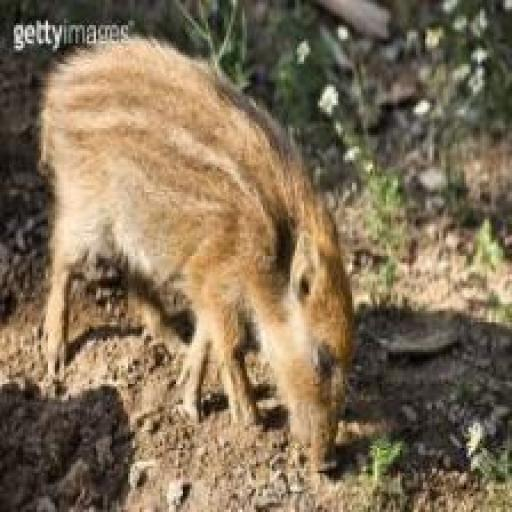Pig: (36, 46, 364, 484)
